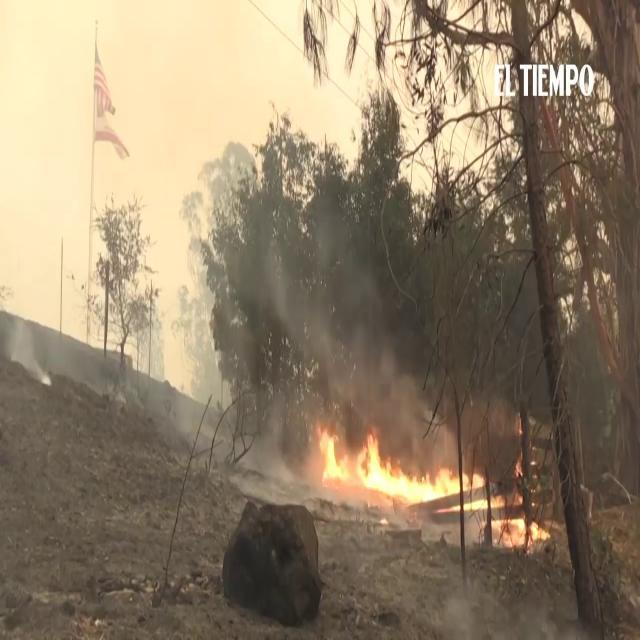Fire: (313, 424, 483, 498), (491, 511, 549, 547)
